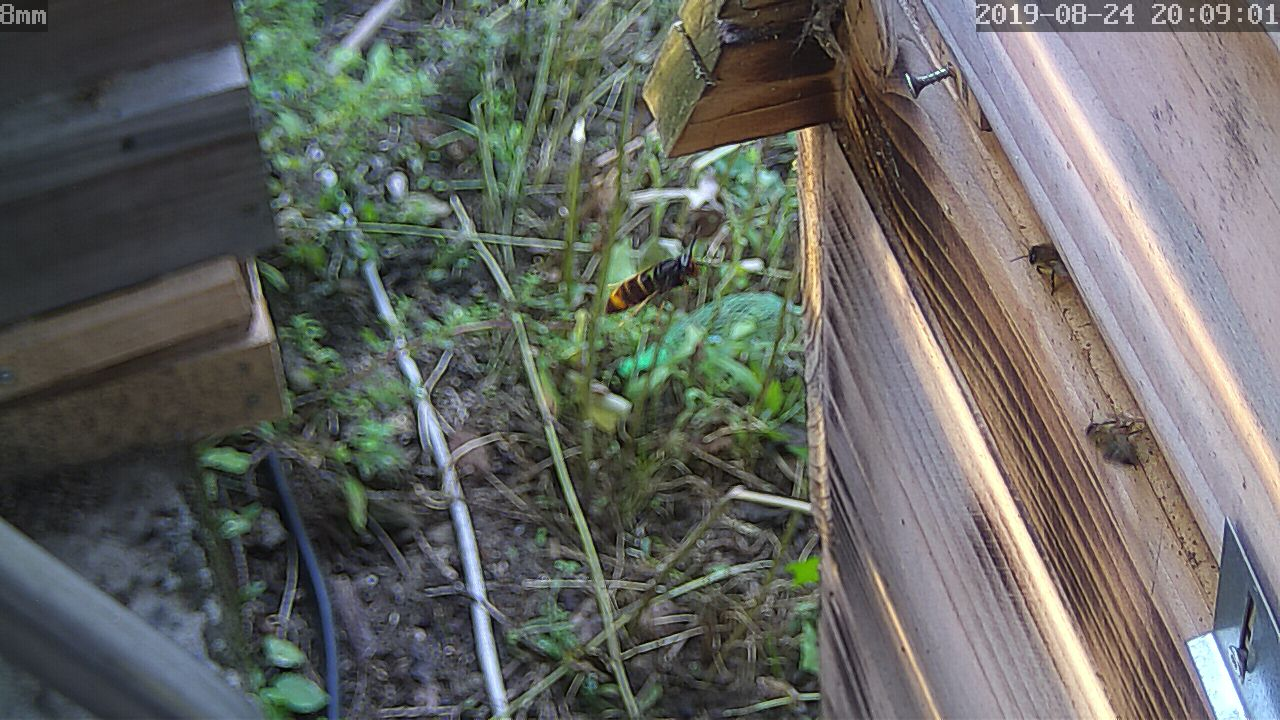bee: (1078, 411, 1146, 467), (1013, 228, 1069, 287)
hornet: (605, 249, 709, 324)
